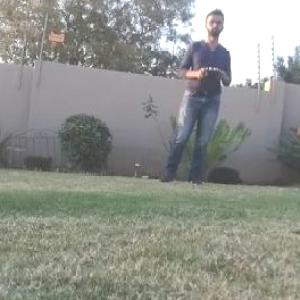follow: (151, 4, 234, 189)
